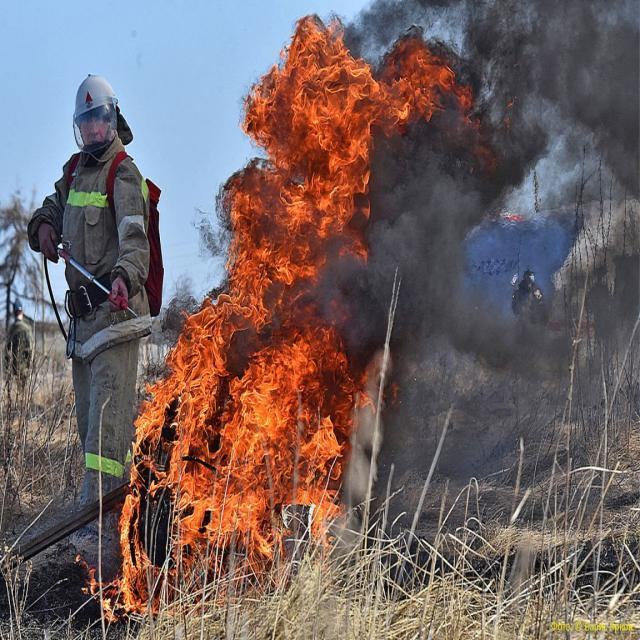Fire: (121, 296, 369, 616), (226, 14, 474, 298), (77, 556, 124, 622)
Smoke: (306, 0, 640, 539)
